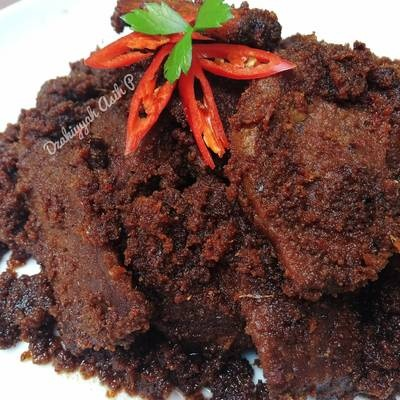rendang: (2, 1, 400, 400)
